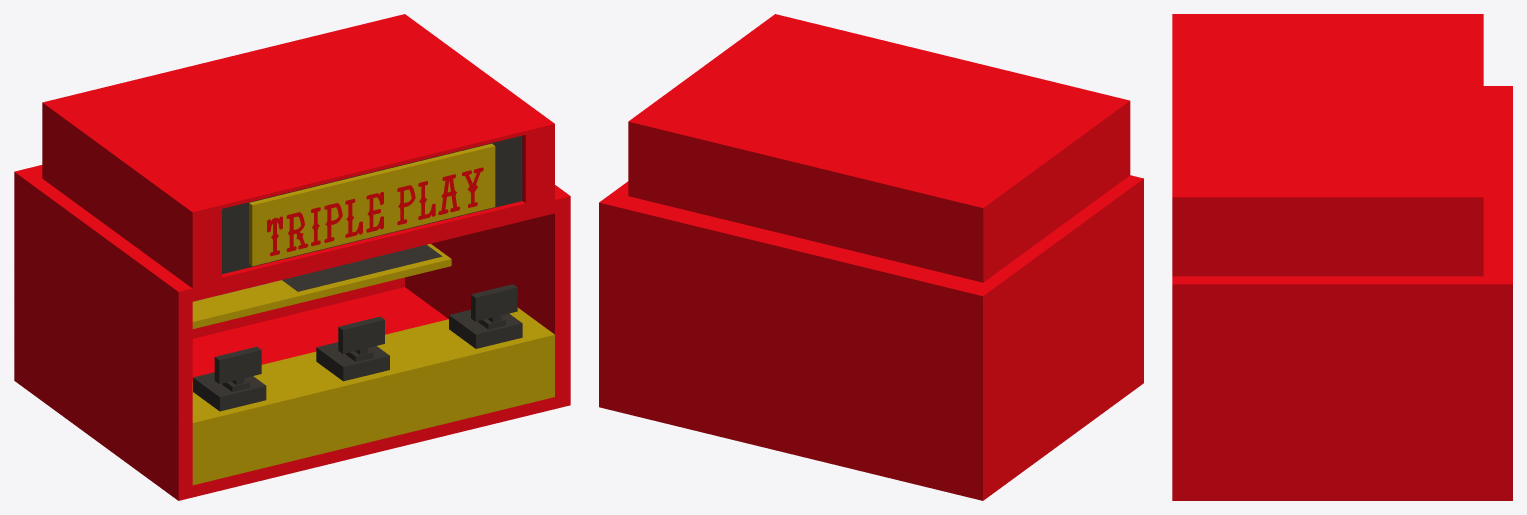
File: BurgerStand.fbx
The picture shows the model from 3 angles, left to right: view 1: azimuth 30°, elevation 25°; view 2: azimuth 150°, elevation 25°; view 3: azimuth 270°, elevation 25°; orthographic projection. The views are drawn at different scales.
Visible parts, largest first — view 1: Cube, Text; view 2: Cube; view 3: Cube.
Part boxes in pixels (x1,y1,x2,y2): Cube: (14, 14, 570, 500); Text: (267, 167, 483, 256); Cube: (599, 14, 1143, 500); Cube: (1172, 14, 1512, 500).
Bounding box in the file's own units: 1707 × 1186 × 1239.
